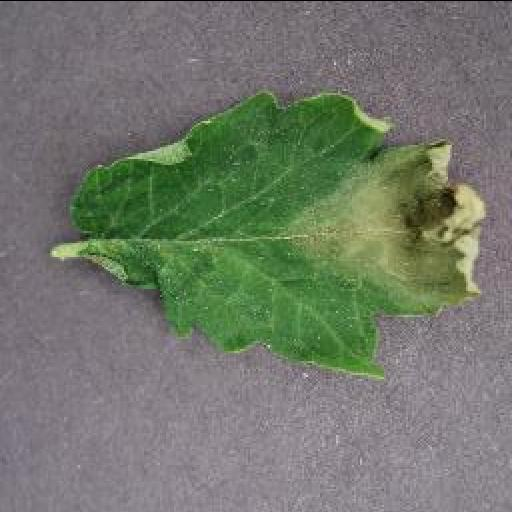disease_tomato: (64, 86, 492, 382)
